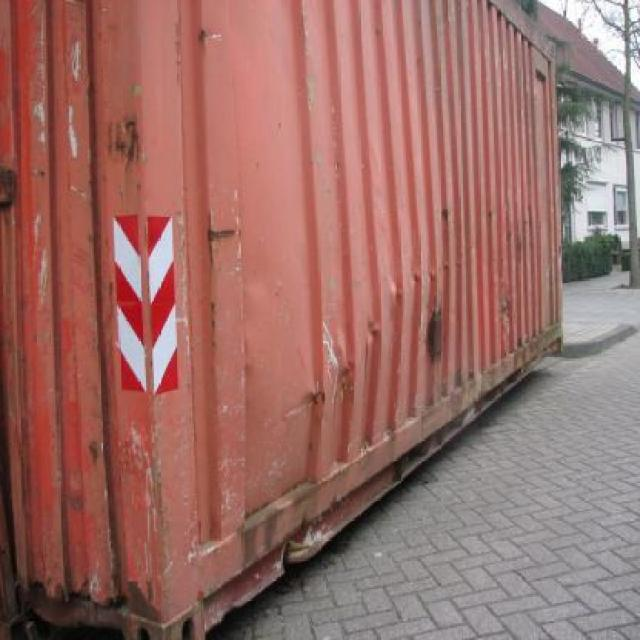Deframe: (274, 528, 335, 580)
Dent: (269, 240, 474, 491)
Minor-Dent: (62, 626, 125, 639)
Rust: (105, 111, 143, 174), (448, 391, 492, 437), (128, 580, 160, 623), (425, 294, 442, 366), (500, 276, 514, 339), (0, 167, 15, 210), (454, 366, 465, 391)
